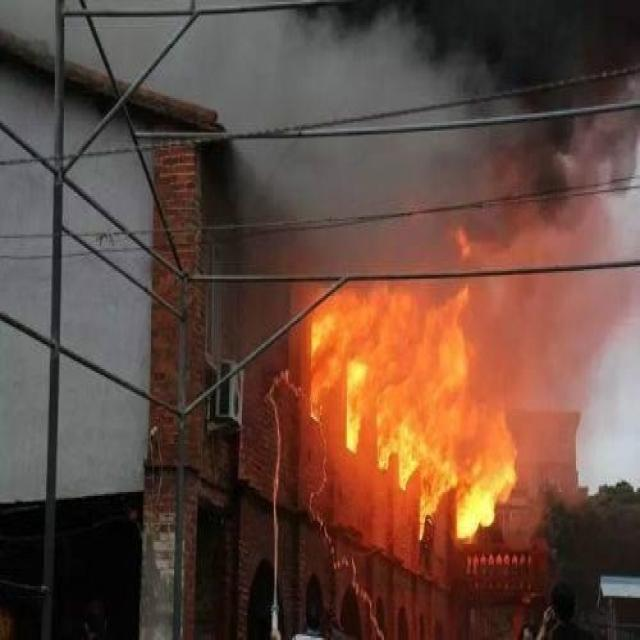Fire: (306, 280, 516, 544)
Smoke: (233, 2, 640, 279), (516, 274, 638, 490), (78, 5, 234, 121)
